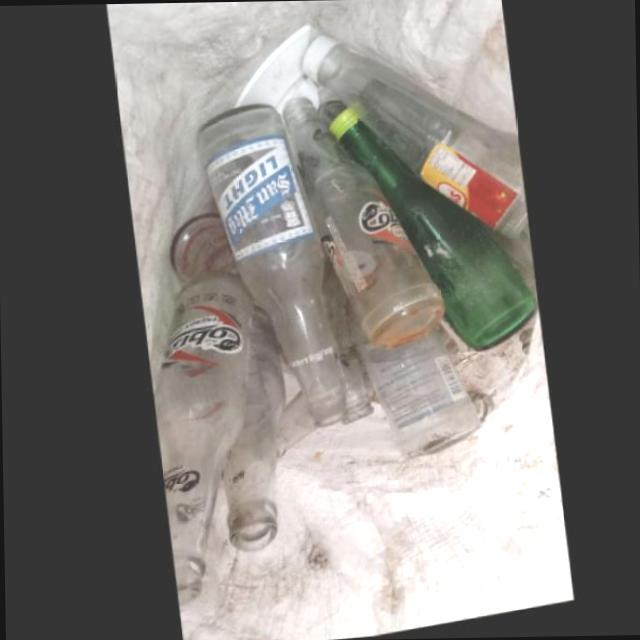chai_thuy_tinh: (328, 111, 537, 357), (197, 107, 343, 428), (301, 39, 528, 243), (282, 100, 444, 354), (152, 273, 248, 610), (341, 293, 480, 467), (220, 293, 283, 558), (321, 269, 373, 432)
